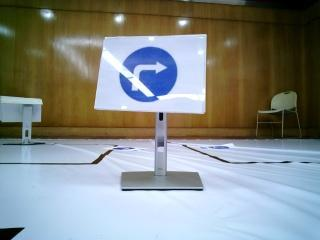right: (107, 41, 185, 107)
